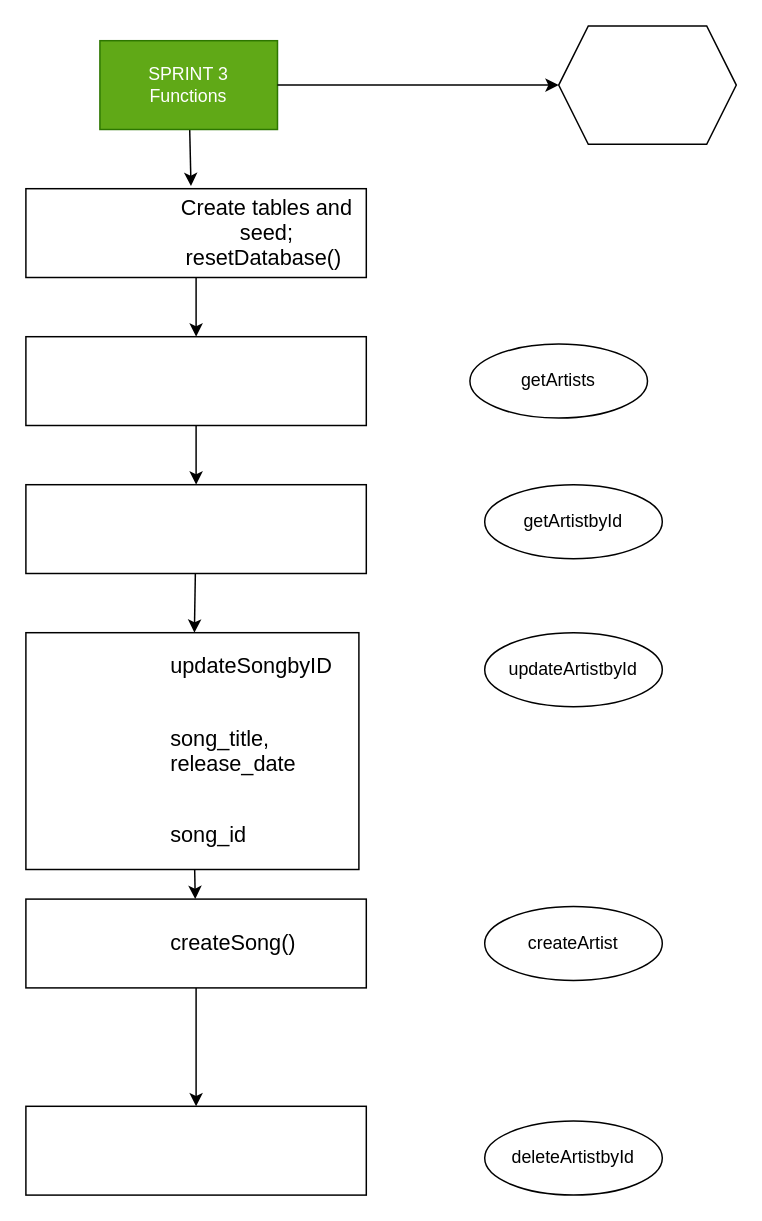
Some shapes in this 762 by 1221 pixel diagram are drawn without their labels. The shapes that lost their labels are listed below. From the top down, each one's centre as x and y in pixels, then its label:
At point (646, 84): "GitHub Add Sprint 3 as a milestone with issues".
At point (195, 380): "getSongs()".
At point (195, 528): "getSongbyID".
At point (195, 1150): "deleteSongbyId()".
